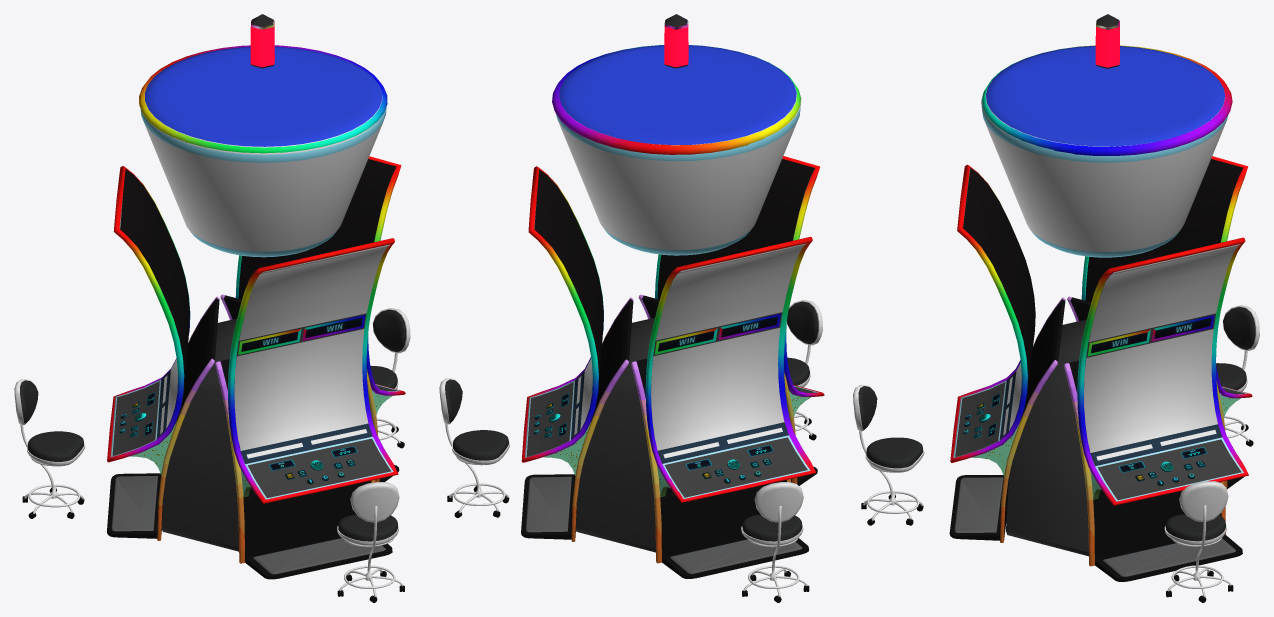
Rendered from AutomatThreeIsland.fbx.
3 views of the same model, side by side, from view 1: azimuth 30°, elevation 25°; view 2: azimuth 150°, elevation 25°; view 3: azimuth 270°, elevation 25° (orthographic).
Visible parts, largest first — view 1: Cylinder.018, Cone.007, Cylinder.019, Cone.001, Cylinder.012, SlotMashine1.007, GameChair.015, GameChair.014, SlotMashine1.008, UVScrollIsland.001, GameChair.013, SlotMashine1.009; view 2: Cylinder.019, Cone.007, Cylinder.012, Cone.001, Cylinder.018, SlotMashine1.008, GameChair.014, GameChair.013, UVScrollIsland.001, SlotMashine1.009, GameChair.015, SlotMashine1.007; view 3: Cylinder.012, Cone.007, Cylinder.018, Cone.001, Cylinder.019, SlotMashine1.009, GameChair.013, GameChair.015, UVScrollIsland.001, SlotMashine1.007, GameChair.014, SlotMashine1.008.
Part boxes in pixels (box(x1,y1,x2,y2)): Cylinder.018: box(215, 244, 393, 579); Cone.007: box(140, 46, 386, 257); Cylinder.019: box(107, 169, 219, 540); Cone.001: box(161, 14, 274, 551); Cylinder.012: box(220, 159, 400, 482); SlotMashine1.007: box(228, 238, 398, 503); GameChair.015: box(337, 482, 404, 602); GameChair.014: box(14, 379, 85, 518); SlotMashine1.008: box(107, 166, 190, 462); UVScrollIsland.001: box(139, 45, 387, 153); GameChair.013: box(370, 308, 410, 448); SlotMashine1.009: box(235, 156, 405, 395); Cylinder.019: box(631, 243, 810, 578); Cone.007: box(556, 45, 801, 255); Cylinder.012: box(521, 169, 633, 541); Cone.001: box(576, 14, 688, 552); Cylinder.018: box(638, 159, 818, 485); SlotMashine1.008: box(645, 236, 816, 502); GameChair.014: box(741, 482, 809, 602); GameChair.013: box(439, 378, 509, 517); UVScrollIsland.001: box(552, 45, 800, 154); SlotMashine1.009: box(521, 166, 603, 462); GameChair.015: box(787, 300, 822, 440); SlotMashine1.007: box(655, 156, 824, 396); Cylinder.012: box(1063, 244, 1243, 581); Cone.007: box(981, 45, 1228, 257); Cylinder.018: box(949, 168, 1065, 542); Cone.001: box(1006, 14, 1119, 556); Cylinder.019: box(1067, 159, 1247, 489); SlotMashine1.009: box(1077, 237, 1248, 505); GameChair.013: box(1164, 481, 1233, 602); GameChair.015: box(853, 384, 924, 525); UVScrollIsland.001: box(982, 45, 1232, 155); SlotMashine1.007: box(950, 164, 1027, 462); GameChair.014: box(1216, 305, 1259, 446); SlotMashine1.008: box(1081, 156, 1252, 398).
Size of the model in its own units: 376 by 478 by 352.
12 materials, 6 textured.
